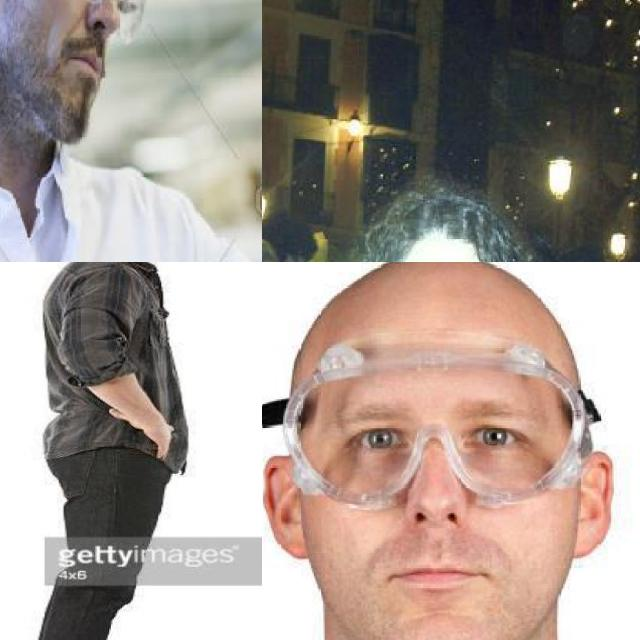No_Ear-Protection: (570, 441, 620, 574), (262, 449, 317, 568)
face_nomask: (338, 404, 534, 613), (46, 0, 140, 93)
glasses: (281, 331, 593, 514), (0, 0, 145, 44)
head_nohelmet: (308, 262, 563, 368), (373, 176, 512, 262), (262, 221, 293, 262)
person: (0, 0, 262, 262), (23, 262, 192, 640), (269, 184, 616, 262)
